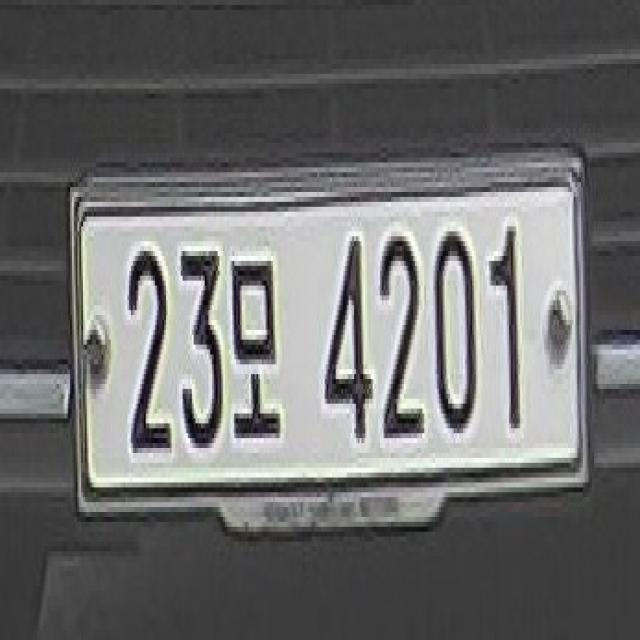0: (427, 213, 488, 451)
1: (483, 201, 534, 439)
2: (374, 215, 431, 454), (120, 236, 177, 468)
3: (173, 229, 226, 466)
4: (310, 213, 379, 462)
license_plate: (70, 155, 590, 509)
mo: (230, 238, 290, 465)
